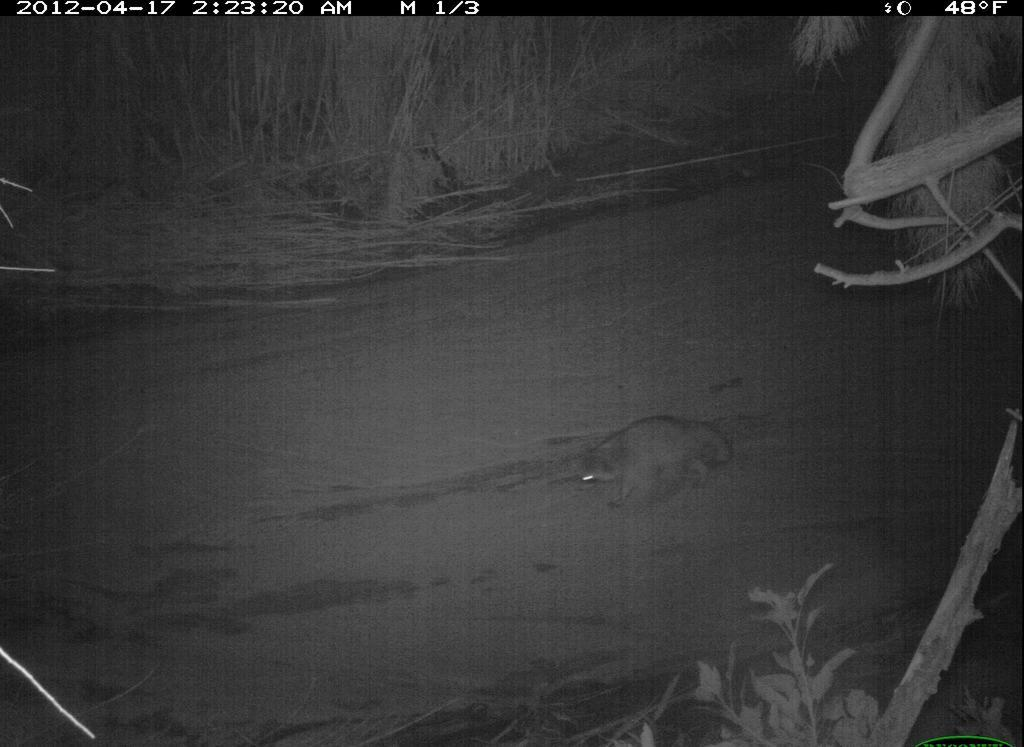raccoon: (573, 414, 738, 513)
